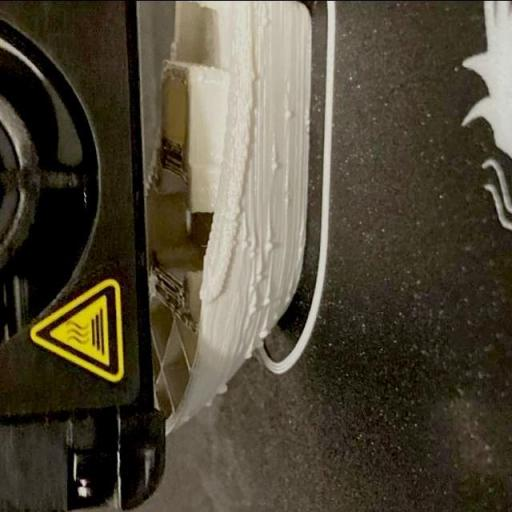blobs: (234, 234, 253, 256), (262, 237, 280, 256), (260, 294, 278, 312), (255, 325, 273, 340), (268, 157, 282, 173), (280, 109, 294, 125), (212, 382, 230, 394), (252, 271, 265, 287), (242, 349, 255, 362), (246, 304, 258, 317)
